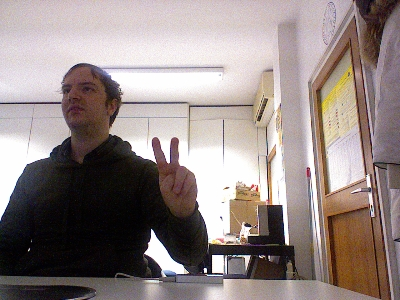剪刀: (150, 136, 197, 218)
